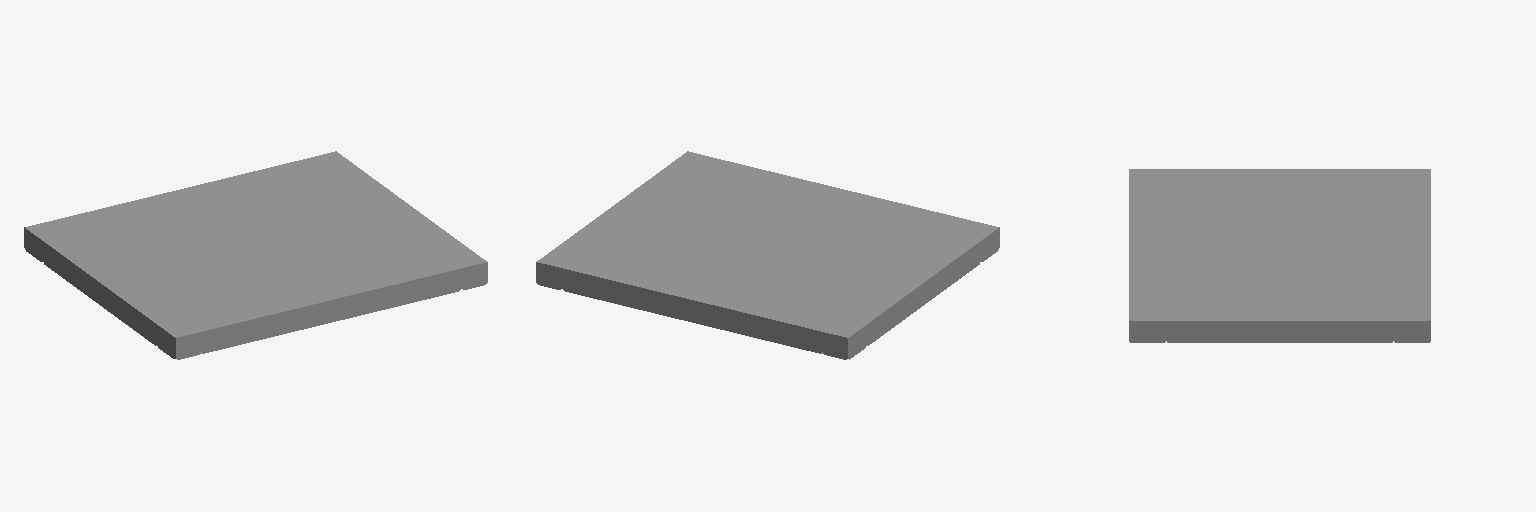
Rendered from stapler_roof.obj.
3 views of the same model, side by side, from view 1: azimuth 30°, elevation 25°; view 2: azimuth 150°, elevation 25°; view 3: azimuth 270°, elevation 25° (orthographic).
Parts seen in each view (by area): view 1: Roof__Roof.001; view 2: Roof__Roof.001; view 3: Roof__Roof.001.
Part boxes in pixels (bbox=[...]): Roof__Roof.001: bbox=[24, 151, 487, 359]; Roof__Roof.001: bbox=[536, 151, 999, 359]; Roof__Roof.001: bbox=[1129, 169, 1430, 342].
Bounding box in the file's own units: 6.43 × 0.4447 × 5.4.